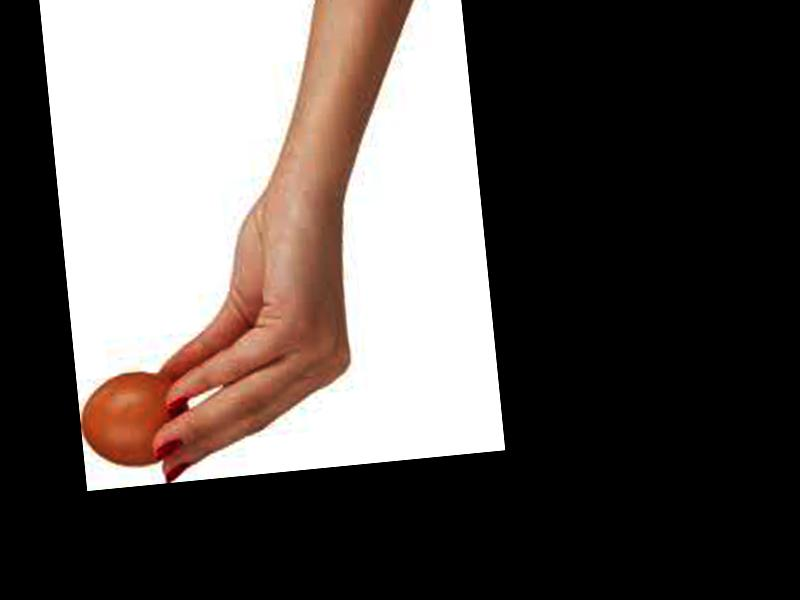Eggs: (78, 367, 190, 472)
